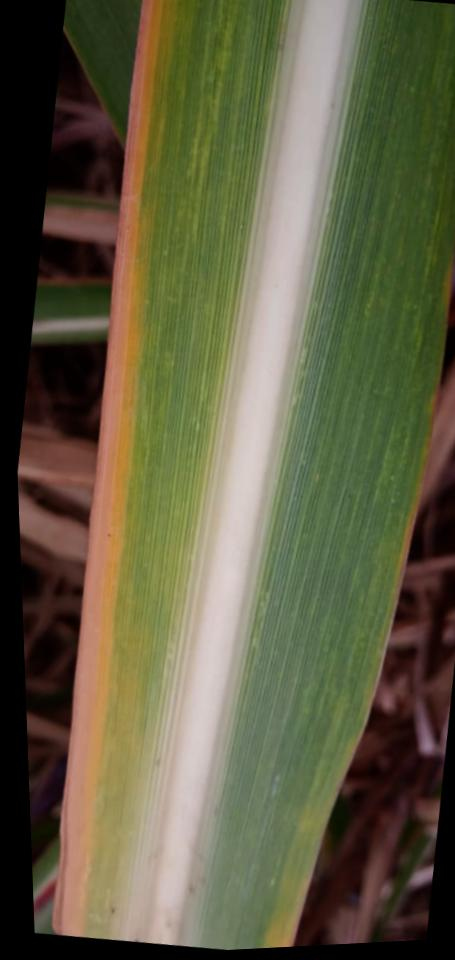Yellow: (51, 0, 168, 937)
